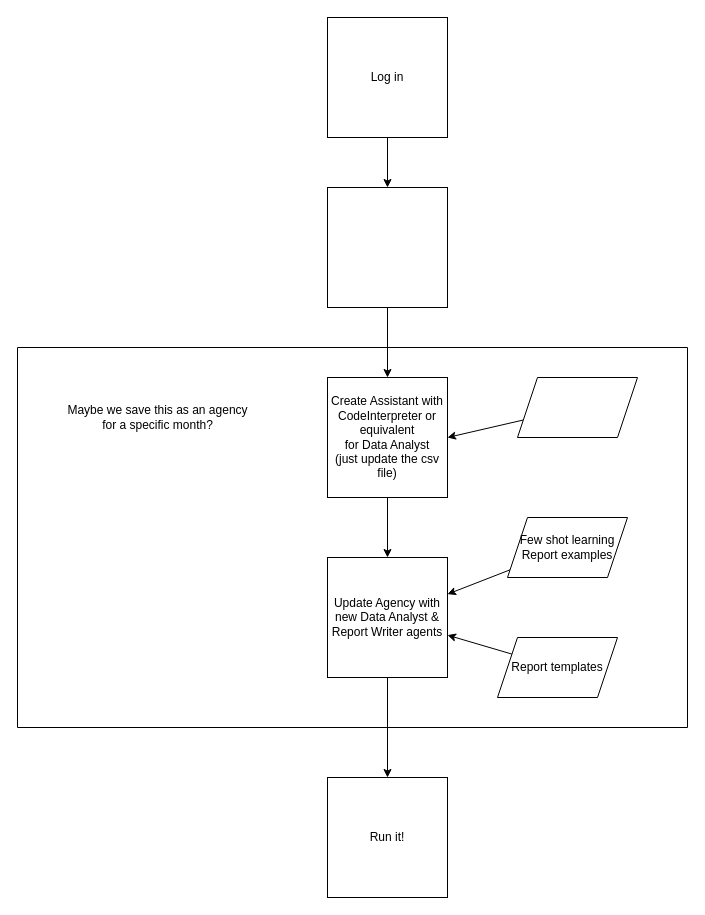
The diagram is 705 pixels wide and 915 high, and some of its shapes have lost their labels. The shapes that lost their labels are listed below. From the top down, each one's box as (x1, y1, x2, y2) in pixels, then its label:
(326, 186, 448, 308): Get AI Fact Table for Given Month (DAX) & save local Excel
(516, 376, 638, 438): Detailed table schema RAG input
(16, 346, 688, 728): ww
